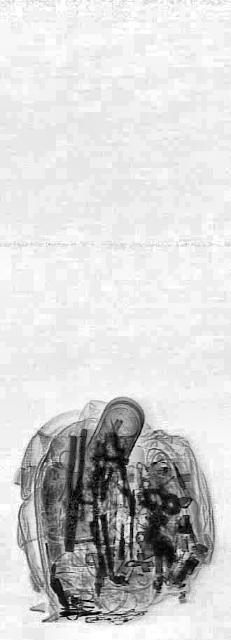Pliers: (60, 419, 88, 556)
